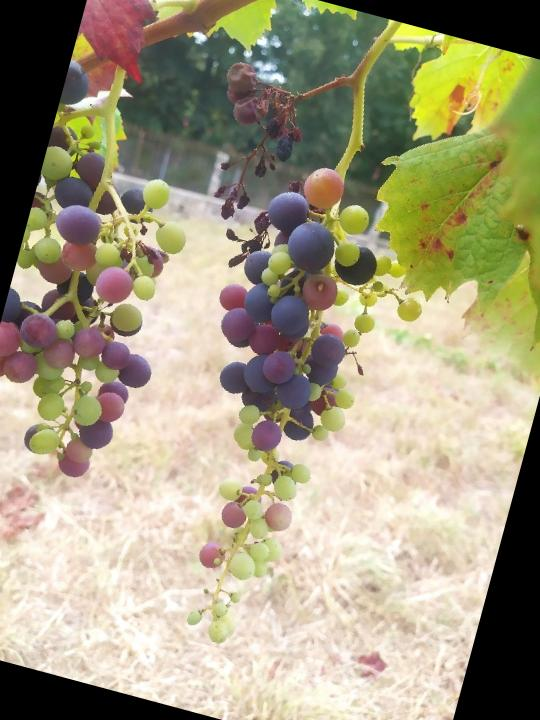grape: (117, 145, 450, 674), (0, 53, 228, 491), (189, 48, 323, 235)
